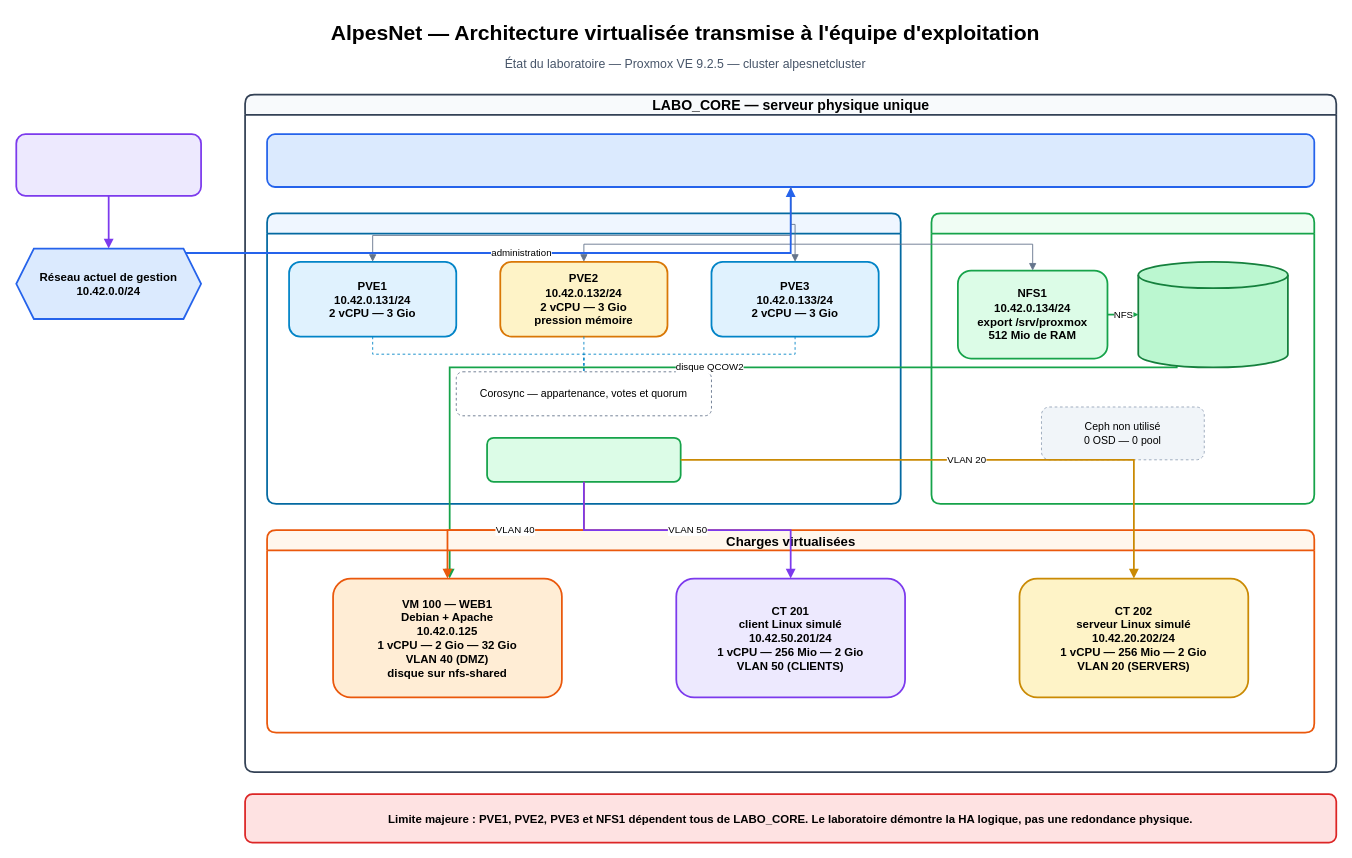
Image size: 1352x858. Some labels were removed from this diagram. The box of each missing label's shape, as (x1, y1, x2, y2) in pixels:
Cluster Proxmox alpesnetcluster — quorum 2/3: (266, 212, 901, 504)
Microsoft Hyper-V 12 processeurs logiques — environ 15,8 Gio de RAM: (266, 133, 1315, 187)
nfs-shared stockage Proxmox actif environ 10,82 % utilisé: (1137, 260, 1288, 368)
Poste d'administration accès aux interfaces Proxmox: (15, 133, 202, 196)
Stockage partagé: (930, 212, 1315, 504)
vmbr0 VLAN-aware plage autorisée 10–50: (486, 436, 681, 482)
